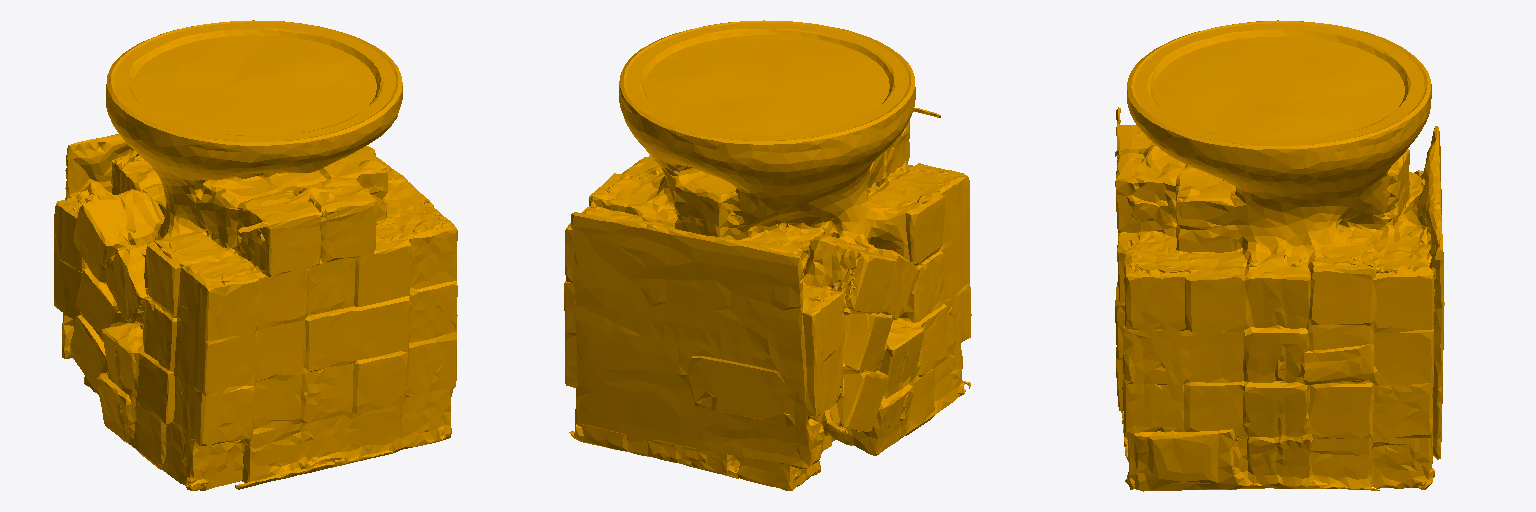
The robot description file, URDF, robot "070-a_colored_wood_blocks":
<?xml version="1.0" ?>
<robot name="070-a_colored_wood_blocks">
  <link name="base_link">
    <inertial>
      <mass value="0.292510791220938"/>
      <origin rpy="3.13955 0.02206 2.80599" xyz="0.02008 0.00889 0.07995"/>
      <inertia ixx="0.0010485480168605375" ixy="2.9004105163944376e-20" ixz="-2.874188811711384e-21" iyy="0.0010352417405759158" iyz="2.6525417301074237e-21" izz="0.0008599883419842097"/>
    </inertial>
    <collision name="070-a_colored_wood_blocks__collision">
      <origin rpy="0 0 0" xyz="0 0 0"/>
      <geometry>
        <mesh filename="./070-a_colored_wood_blocks_250_collision.stl" scale="1.0 1.0 1.0"/>
      </geometry>
    </collision>
    <visual name="070-a_colored_wood_blocks__visual">
      <origin rpy="0 0 0" xyz="0 0 0"/>
      <geometry>
        <mesh filename="./textured.obj" scale="1.0 1.0 1.0"/>
      </geometry>
    </visual>
  </link>
</robot>

--- What the picture shows (computed from the rendered views, not written in the file) ---
The picture shows the robot from 3 angles, left to right: view 1: azimuth 30°, elevation 25°; view 2: azimuth 150°, elevation 25°; view 3: azimuth 270°, elevation 25°; orthographic projection.
Robot: 070-a_colored_wood_blocks — 1 links, 0 joints (none); root link base_link; default pose: every joint at zero.
Visible links, largest first — view 1: base_link; view 2: base_link; view 3: base_link.
Link boxes in pixels (x1=…): base_link: x1=54, y1=20, x2=457, y2=490; base_link: x1=564, y1=20, x2=971, y2=490; base_link: x1=1115, y1=20, x2=1444, y2=491.
Size in the robot's own frame: 0.1421 by 0.1412 by 0.1654 metres.
1 mesh visuals loaded from 1 distinct referenced files (1 OBJ).